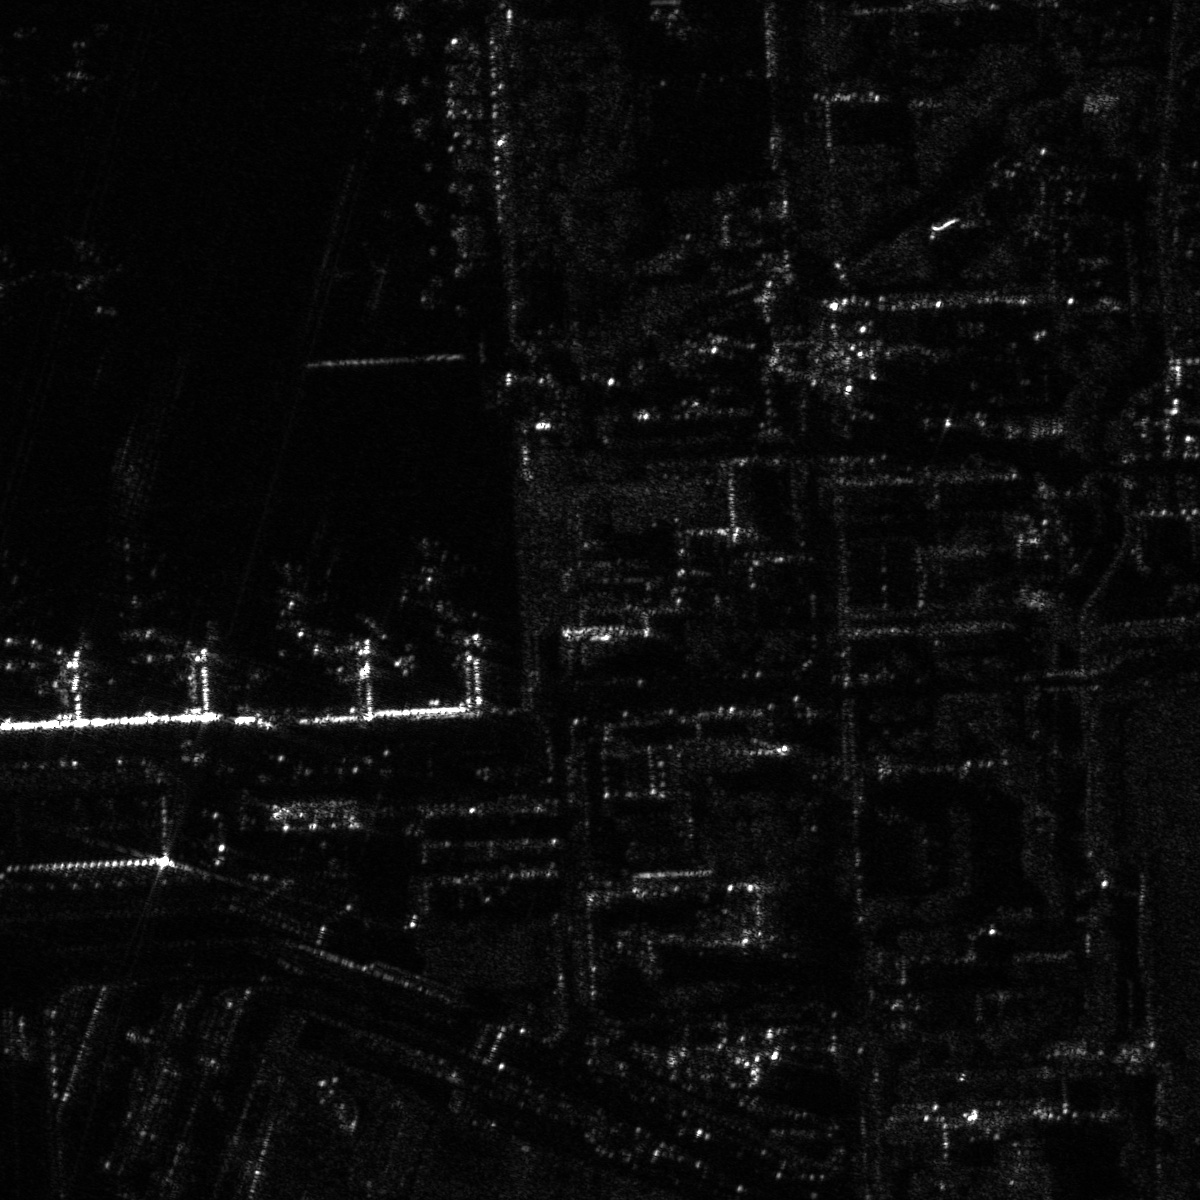A220: (387, 532, 482, 623), (1, 544, 59, 644), (48, 235, 127, 307)
ARJ21: (51, 38, 113, 99)
Boeing787: (91, 538, 181, 645), (253, 563, 335, 638)
other: (1, 242, 43, 316)
